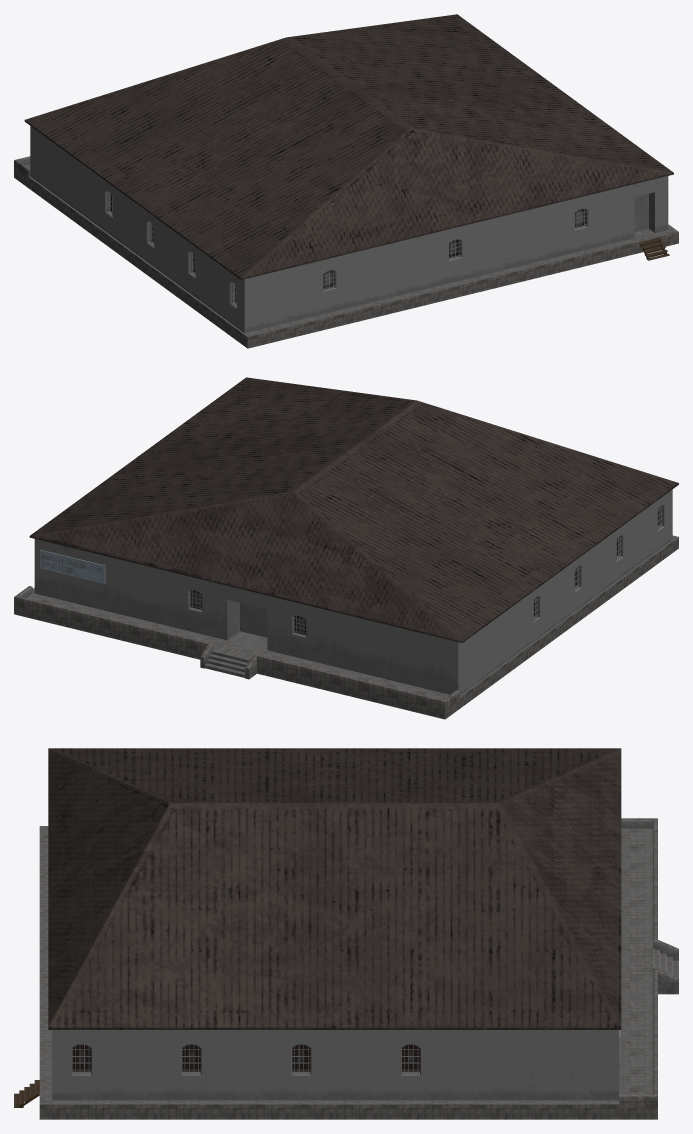
Rendered from Police station External.fbx.
3 views of the same model, one above another, from view 1: azimuth 30°, elevation 25°; view 2: azimuth 150°, elevation 25°; view 3: azimuth 270°, elevation 25° (orthographic). The views are drawn at different scales.
Parts seen in each view (by area): view 1: Fundação/escada.001; view 2: Fundação/escada.001; view 3: Fundação/escada.001.
Boxes of the visible parts, <box> form: Fundação/escada.001: <box>14,14,678,348</box>; Fundação/escada.001: <box>14,377,678,719</box>; Fundação/escada.001: <box>14,748,678,1119</box>.
Bounding box in the file's own units: 3049 × 893 × 3055.
